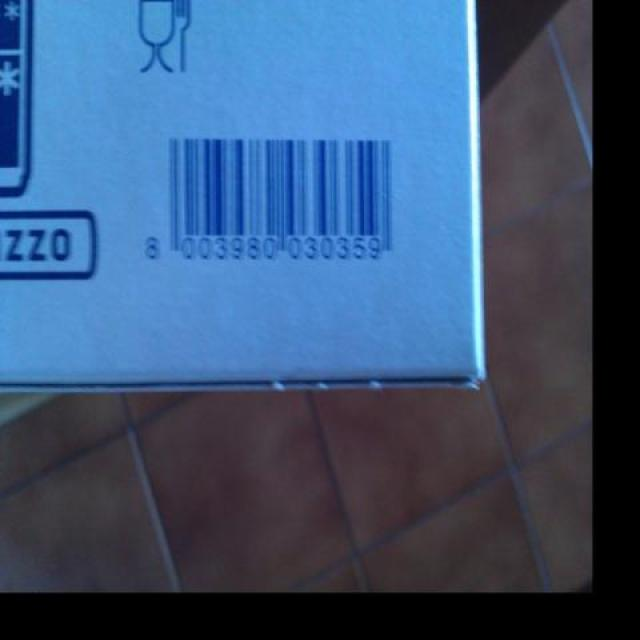Barcode: (137, 121, 412, 282)
